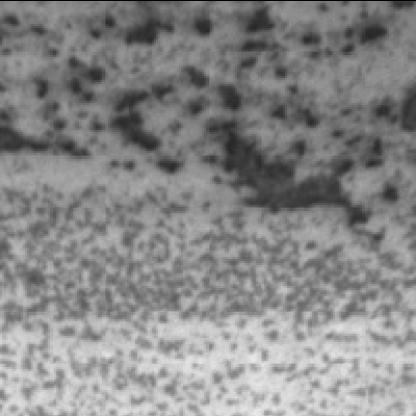patches: (214, 125, 366, 227)
pitted_surface: (4, 186, 410, 412), (0, 4, 389, 208)
